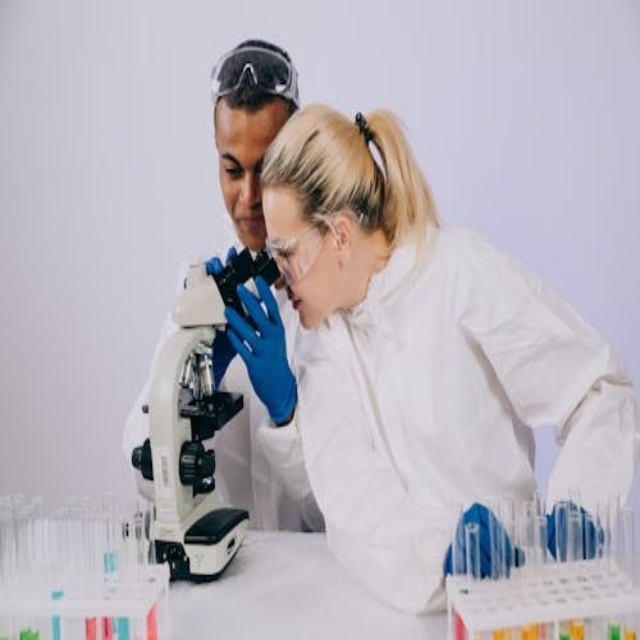Gafas: (268, 204, 342, 279)
Guantes: (224, 275, 297, 415), (443, 498, 527, 580), (543, 492, 609, 575)
Sin_gafas: (220, 150, 265, 181)
Sin_mascara: (230, 204, 265, 244), (288, 288, 316, 329)
